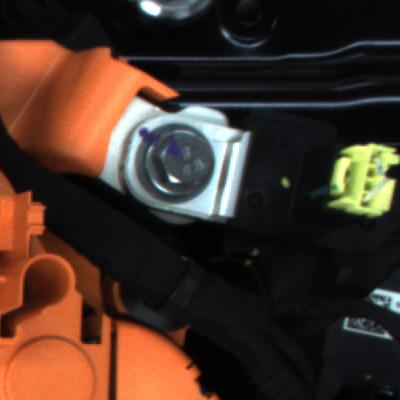nut_b: (128, 115, 219, 207)
